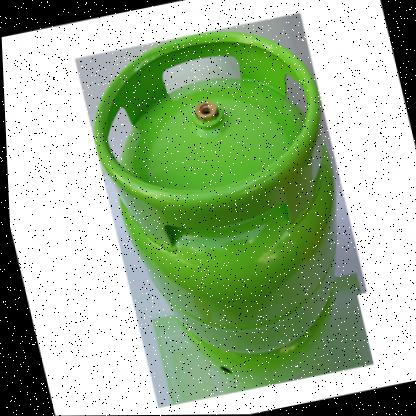gas-tank: (53, 0, 413, 415)
